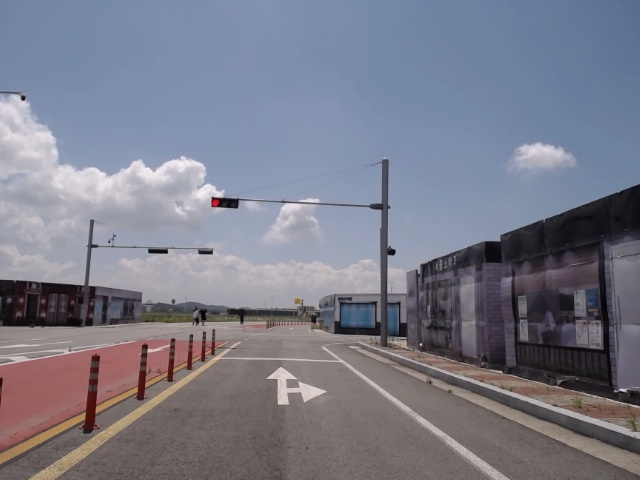red_3: (210, 195, 241, 210)
